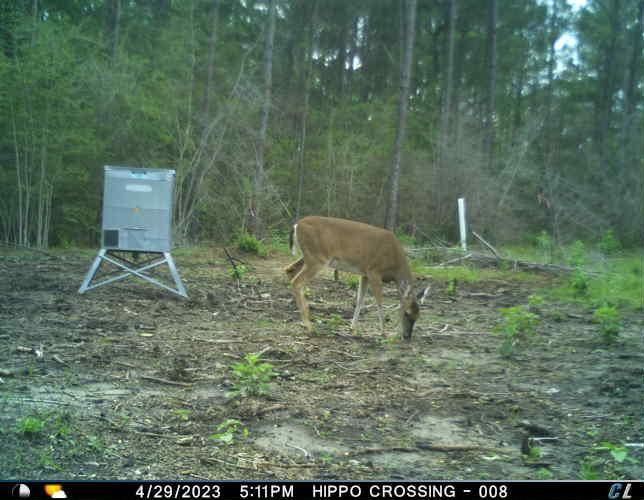Deer: (283, 213, 434, 344)
